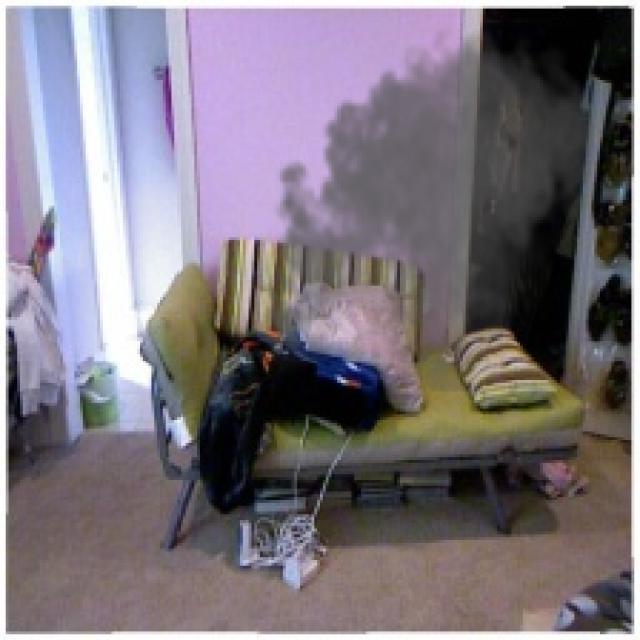Smoke: (254, 14, 603, 392)
